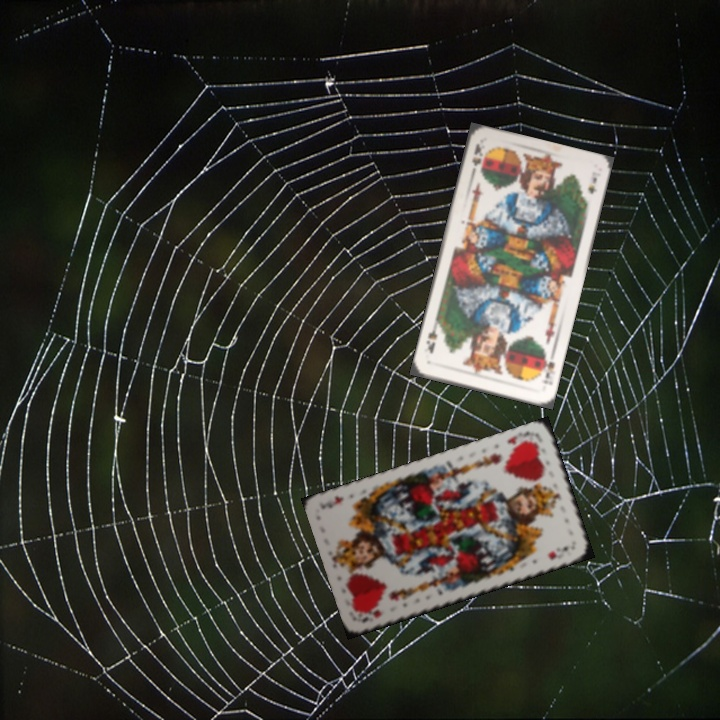HK: (504, 427, 539, 452), (356, 605, 385, 625)
SK: (536, 350, 558, 388), (468, 139, 485, 176)
